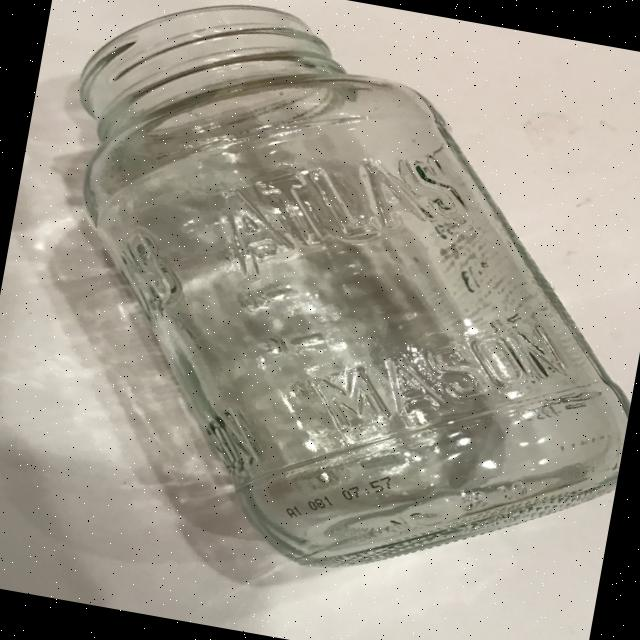glass: (1, 0, 640, 617)
